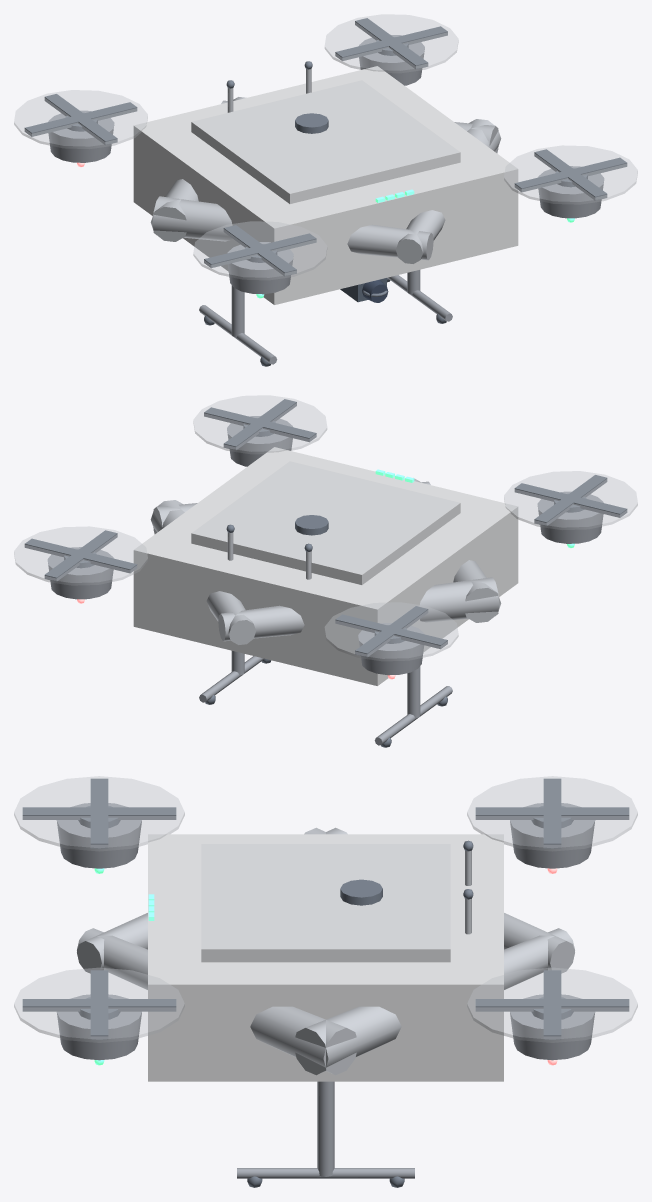
The model's file is quadcopter_phantom.glb.
3 renders of one model, top to bottom at view 1: azimuth 30°, elevation 25°; view 2: azimuth 150°, elevation 25°; view 3: azimuth 270°, elevation 25°, orthographic. The views are drawn at different scales.
Size of the model in its own units: 0.8764 by 0.416 by 0.8764.
